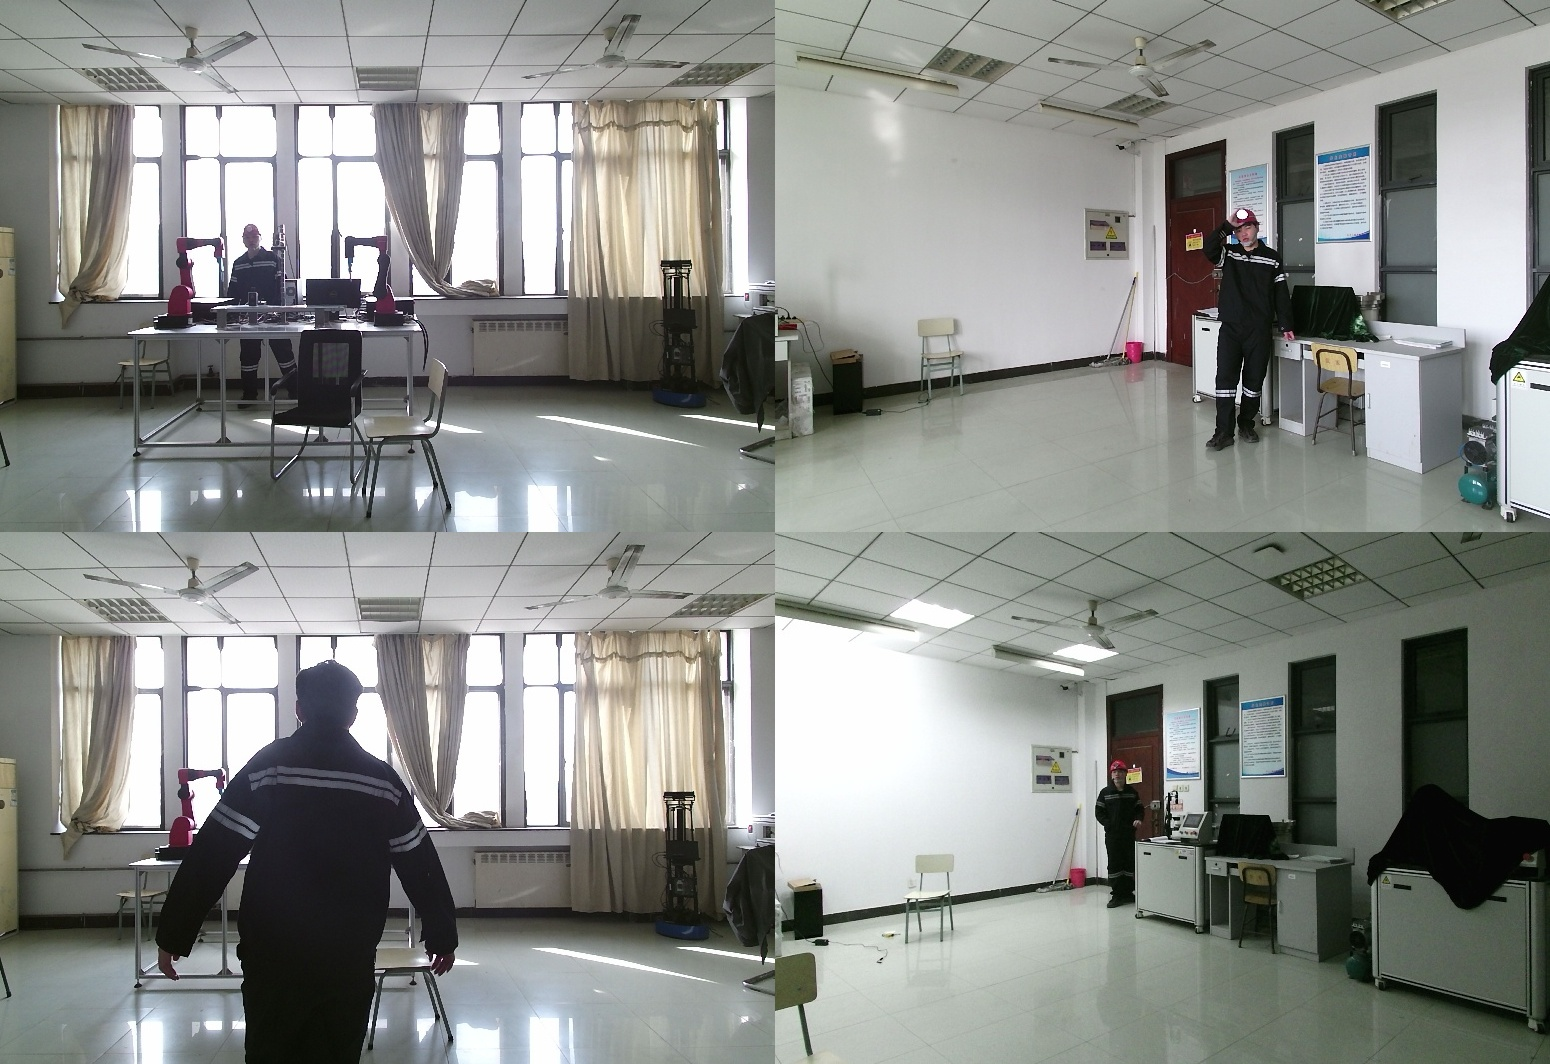person: (155, 662, 459, 1064), (1207, 209, 1303, 447), (224, 224, 300, 409), (1095, 762, 1152, 908)
